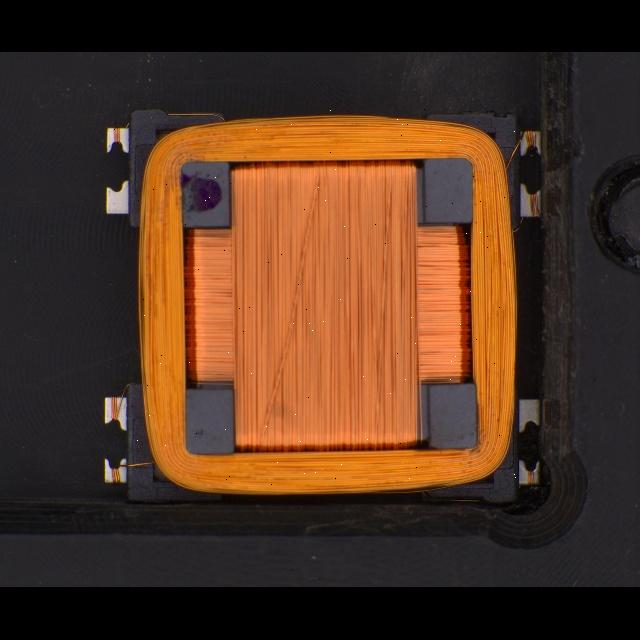Winding_Z: (114, 109, 522, 501)
